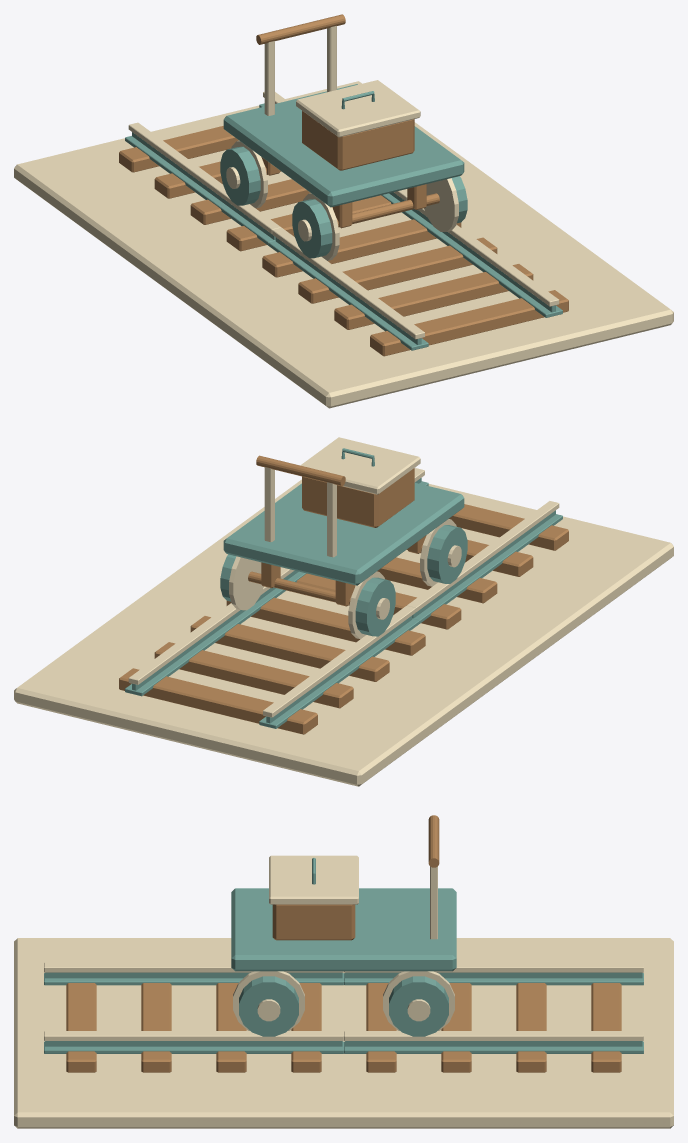
3 renders of one model, top to bottom at view 1: azimuth 30°, elevation 25°; view 2: azimuth 150°, elevation 25°; view 3: azimuth 270°, elevation 25°, orthographic. The views are drawn at different scales.
Parts seen in each view (by area): view 1: railway-maintenance-stop-scene-01; view 2: railway-maintenance-stop-scene-01; view 3: railway-maintenance-stop-scene-01.
Boxes of the visible parts, x1=… form: railway-maintenance-stop-scene-01: x1=14, y1=14, x2=673, y2=408; railway-maintenance-stop-scene-01: x1=14, y1=437, x2=673, y2=786; railway-maintenance-stop-scene-01: x1=14, y1=815, x2=673, y2=1128.
Size of the model in its own units: 2.8 by 1.51 by 4.4.
